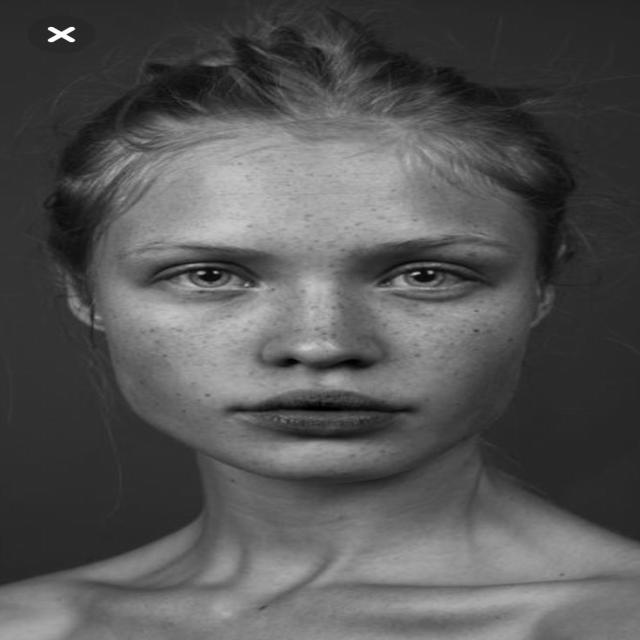earlobe: (72, 300, 107, 334), (528, 296, 555, 330)
eye: (154, 262, 265, 293), (375, 264, 486, 294)
nose: (264, 356, 383, 385)
wholeear: (529, 240, 573, 330), (61, 258, 108, 333)
